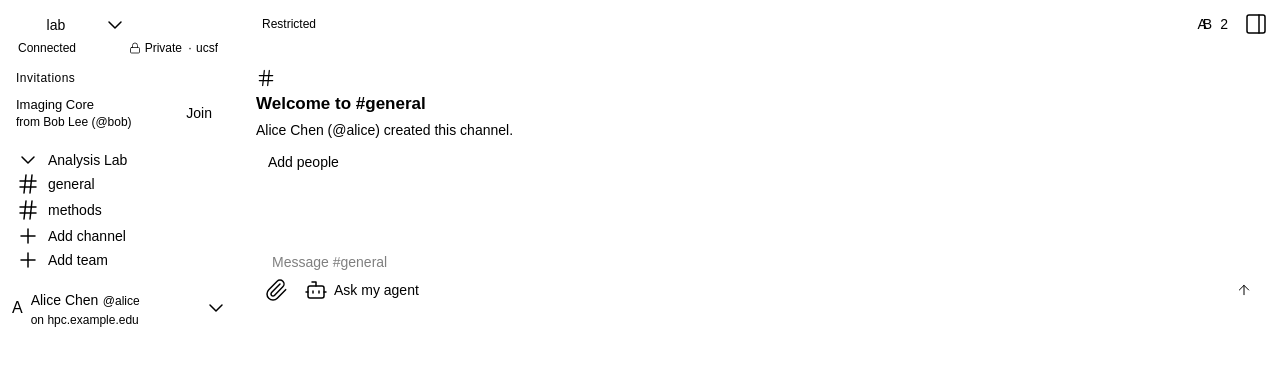
@agent in the composer (OW-10) › says the confined folder of a connection that has one
The width and height of the screenshot is (1280, 367).
Type "@agent rerun the alignment" into the text box labelled "Message #general".
click(762, 262); type("@agent rerun the alignment")  # box [272, 246, 1252, 278]
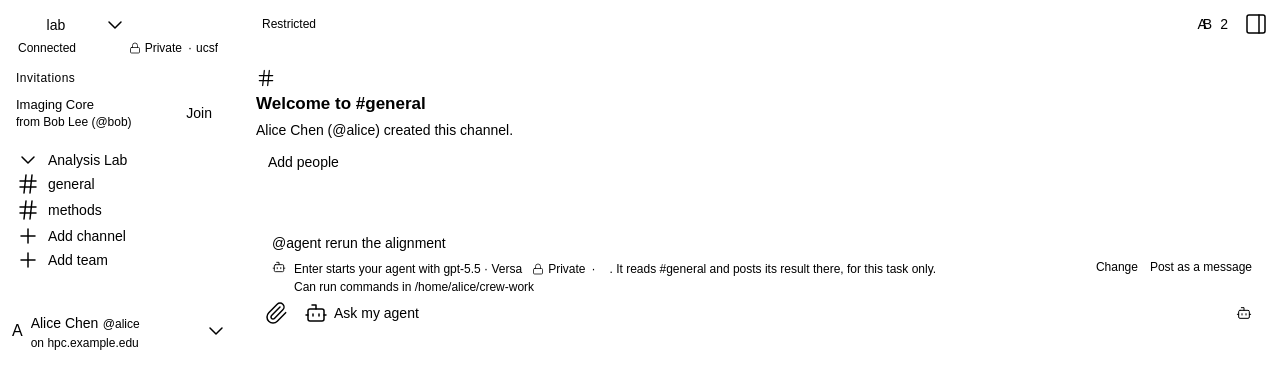
Now the element with class "crew-compose-agent" is shown, box [272, 259, 1252, 301]
Now the element with class "crew-compose-agent" shows "Can run commands in /home/alice/crew-work", box [294, 280, 534, 294]
